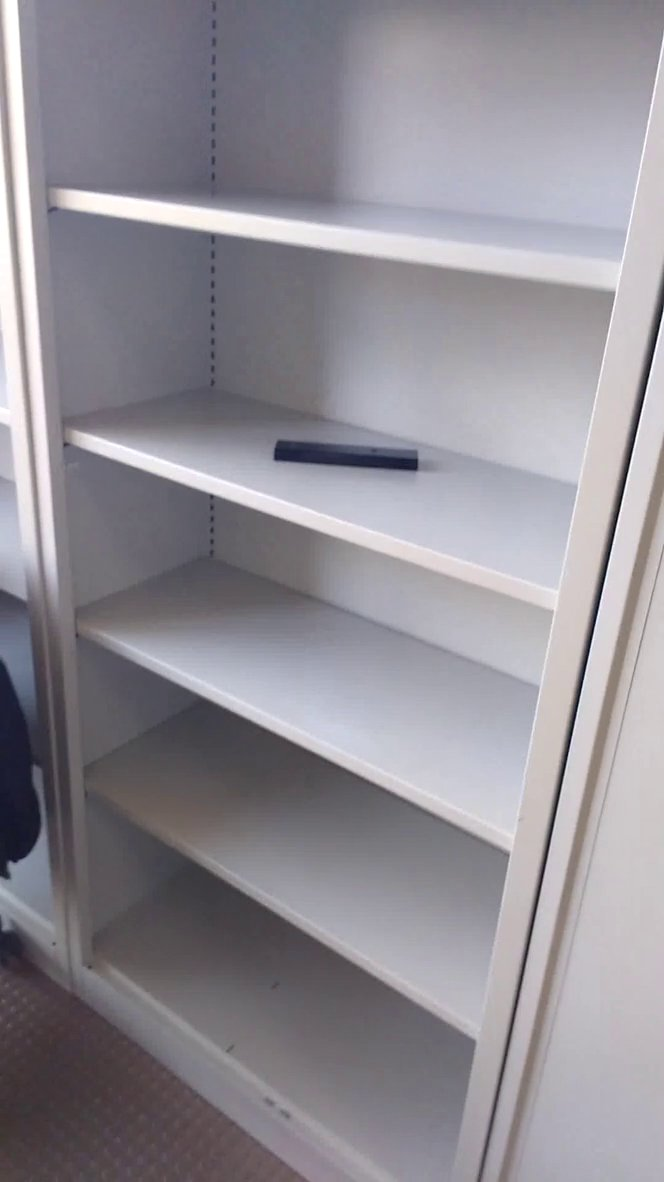remote: (251, 434, 436, 491)
